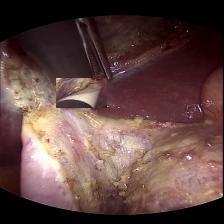Grasper: (73, 17, 122, 82)
Hook: (57, 77, 107, 107)
